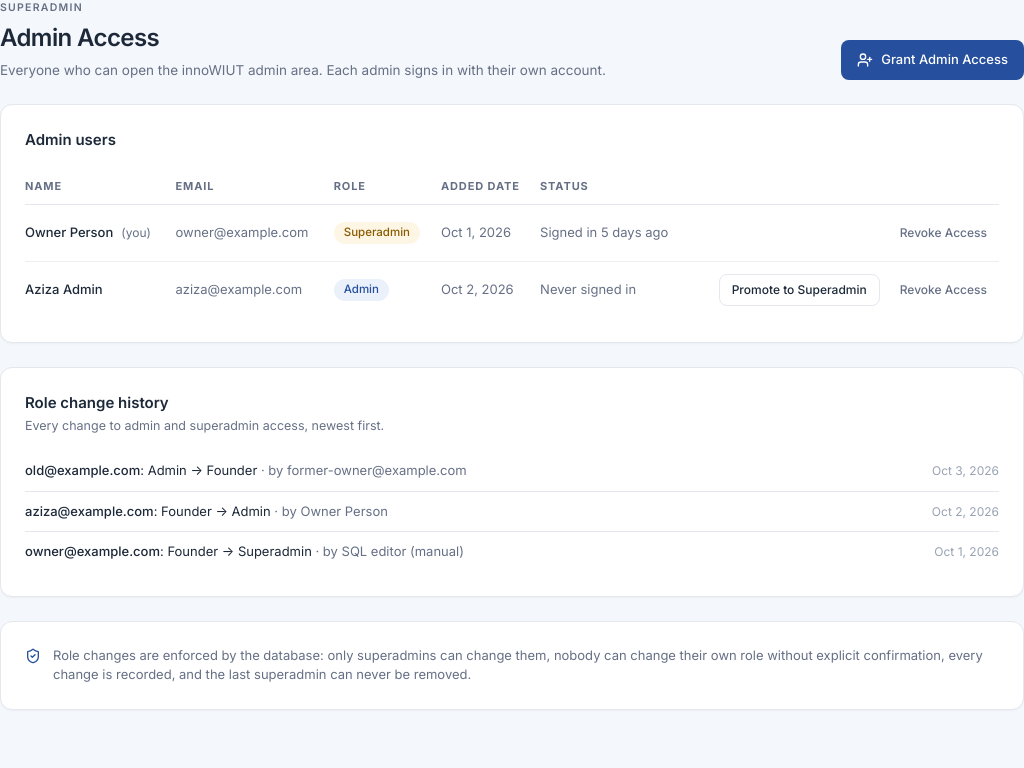
Scenario: AdminAccessPage › refuses founders who own a startup
Click the button "Grant Admin Access": [933, 60] box [841, 40, 1023, 80]
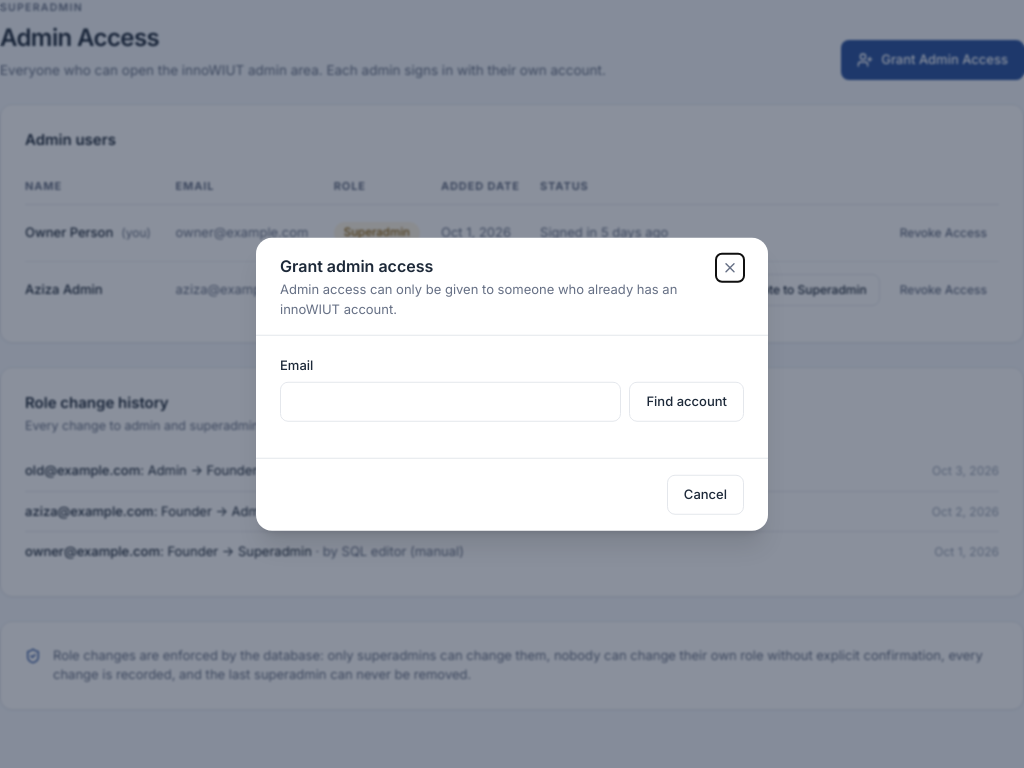
In the field labelled "Email": [451, 401] box [280, 381, 621, 421], type "f@example.com"
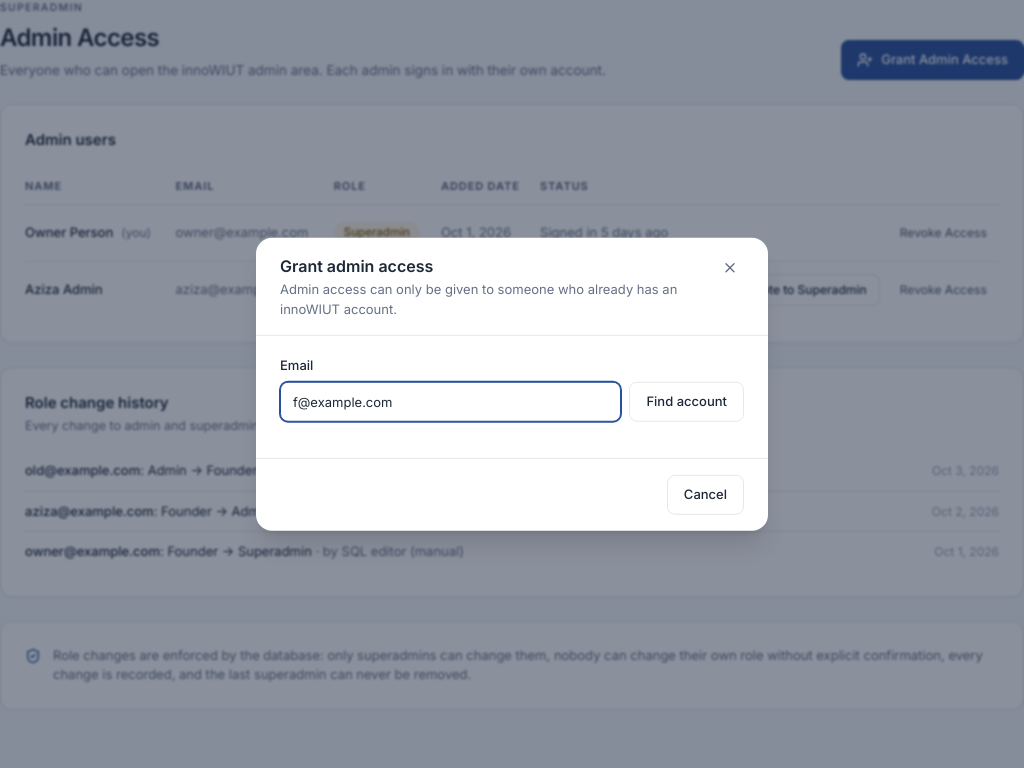
Click the button "Find account": [687, 401] box [629, 381, 744, 421]
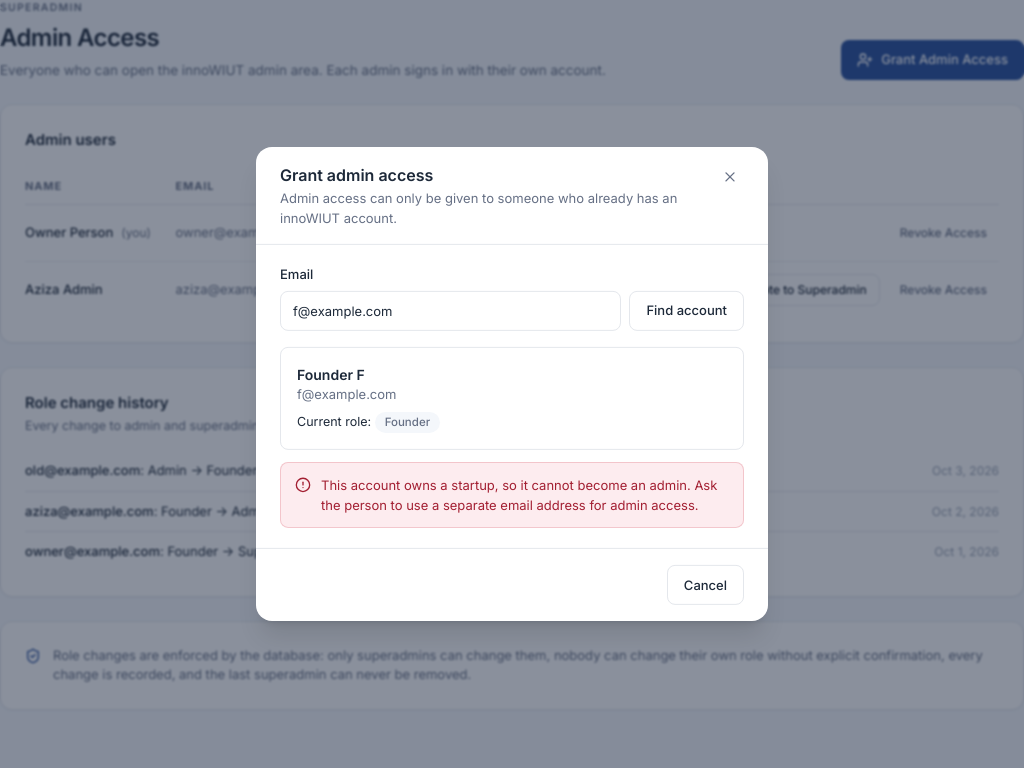
Now the text "owns a startup" is shown, box [321, 477, 717, 513]
